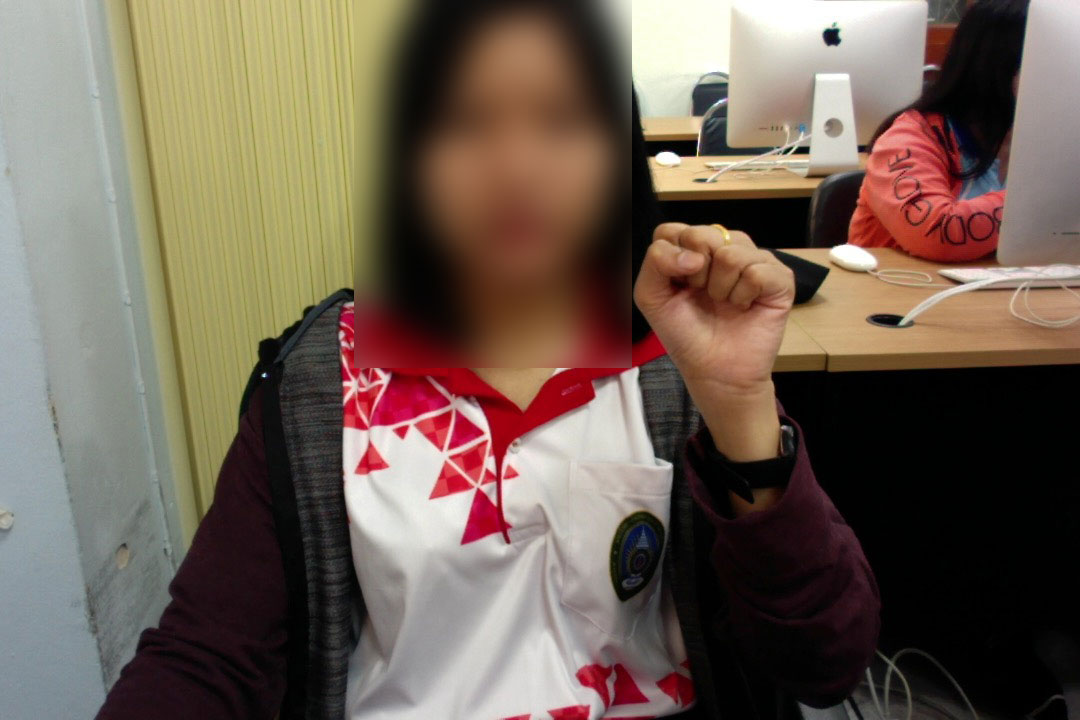sor: (623, 212, 800, 402)
